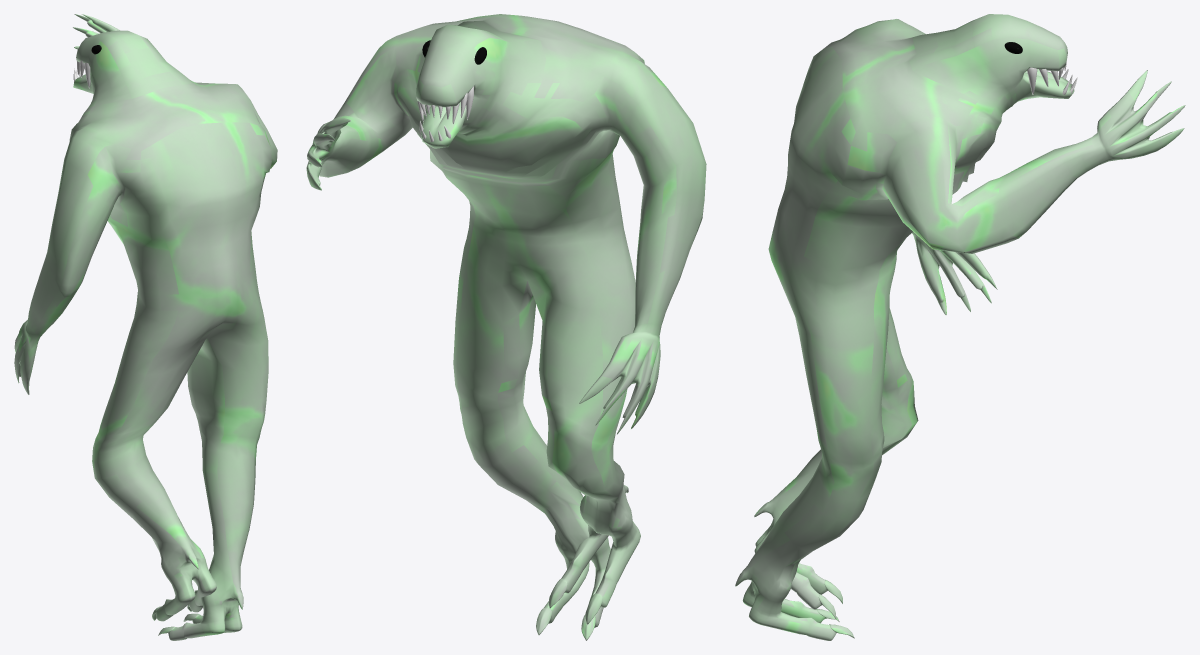
File: Berserkercorrer.0060.obj
The picture shows the model from 3 angles, left to right: view 1: azimuth 30°, elevation 25°; view 2: azimuth 150°, elevation 25°; view 3: azimuth 270°, elevation 25°; orthographic projection. The views are drawn at different scales.
Visible parts, largest first — view 1: polySurface27; view 2: polySurface27; view 3: polySurface27.
Part boxes in pixels (left/top/right/bottom): polySurface27: left=14, top=14, right=277, bottom=640; polySurface27: left=306, top=14, right=706, bottom=640; polySurface27: left=735, top=14, right=1185, bottom=640.
Bounding box in the file's own units: 11.39 × 23.01 × 15.11.
Materials: 1 (1 with a texture image).
